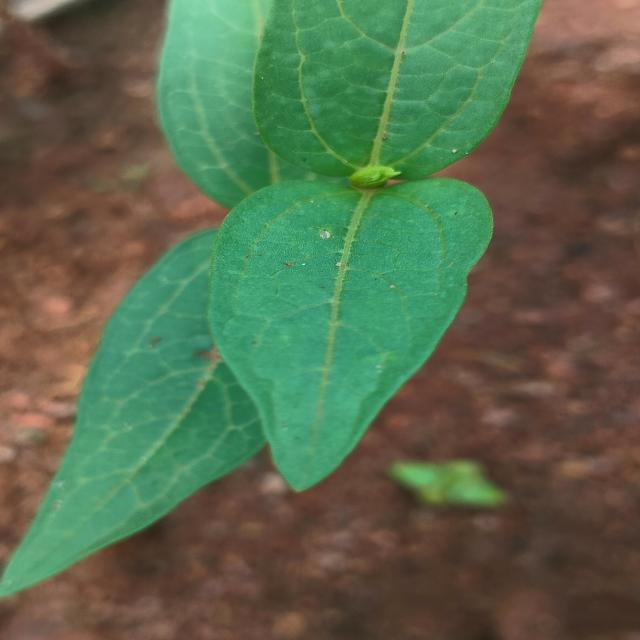Black gram_healthy: (0, 202, 435, 606), (197, 165, 494, 492), (258, 0, 530, 181)
